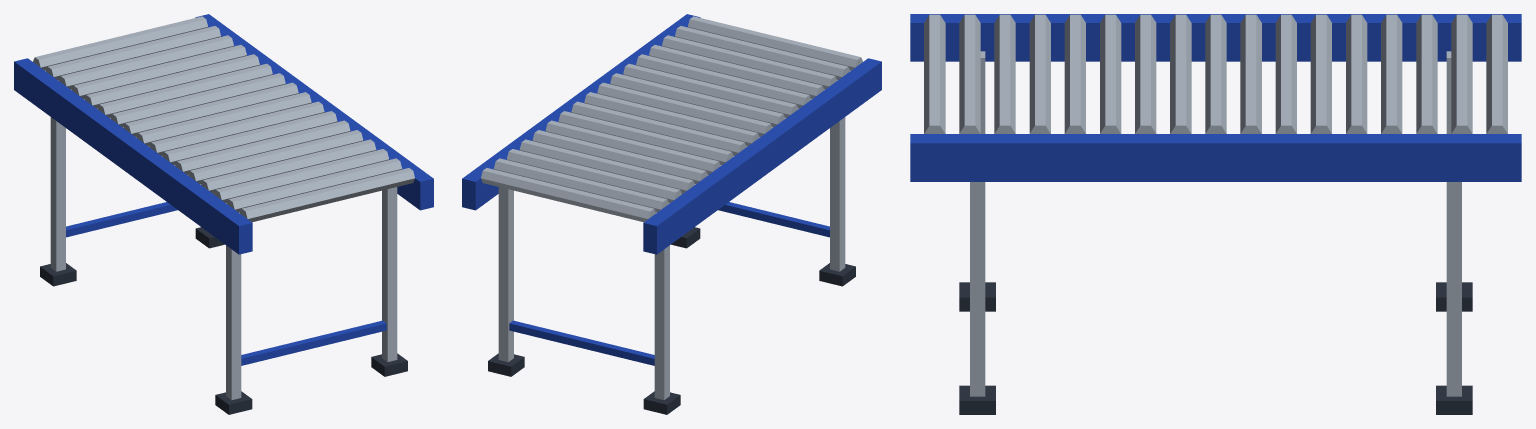
Rendered from SM_MPR_Conveyor2m.fbx.
3 renders of one model, left to right at view 1: azimuth 30°, elevation 25°; view 2: azimuth 150°, elevation 25°; view 3: azimuth 270°, elevation 25°, orthographic. The views are drawn at different scales.
Parts seen in each view (by area): view 1: SM_MPR_Conveyor2m; view 2: SM_MPR_Conveyor2m; view 3: SM_MPR_Conveyor2m.
Boxes of the visible parts, <box> form: SM_MPR_Conveyor2m: <box>14,14,433,414</box>; SM_MPR_Conveyor2m: <box>462,14,881,414</box>; SM_MPR_Conveyor2m: <box>910,14,1521,414</box>.
Size of the model in its own units: 100 by 200 by 103.
